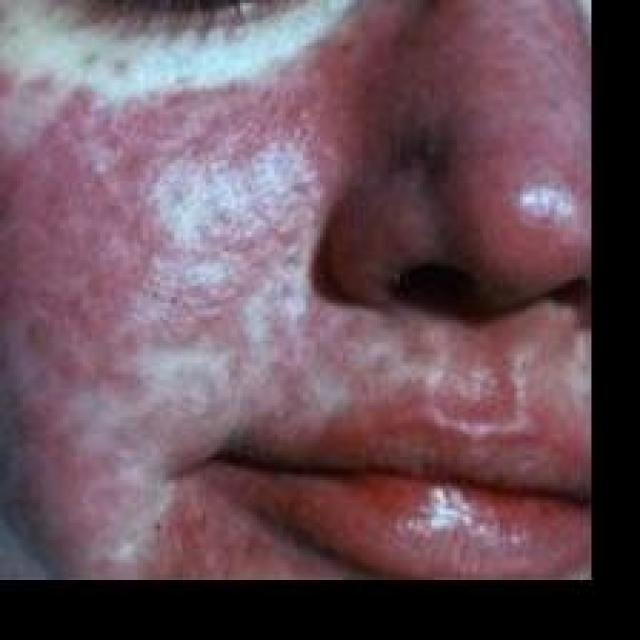others: (0, 3, 593, 590)
